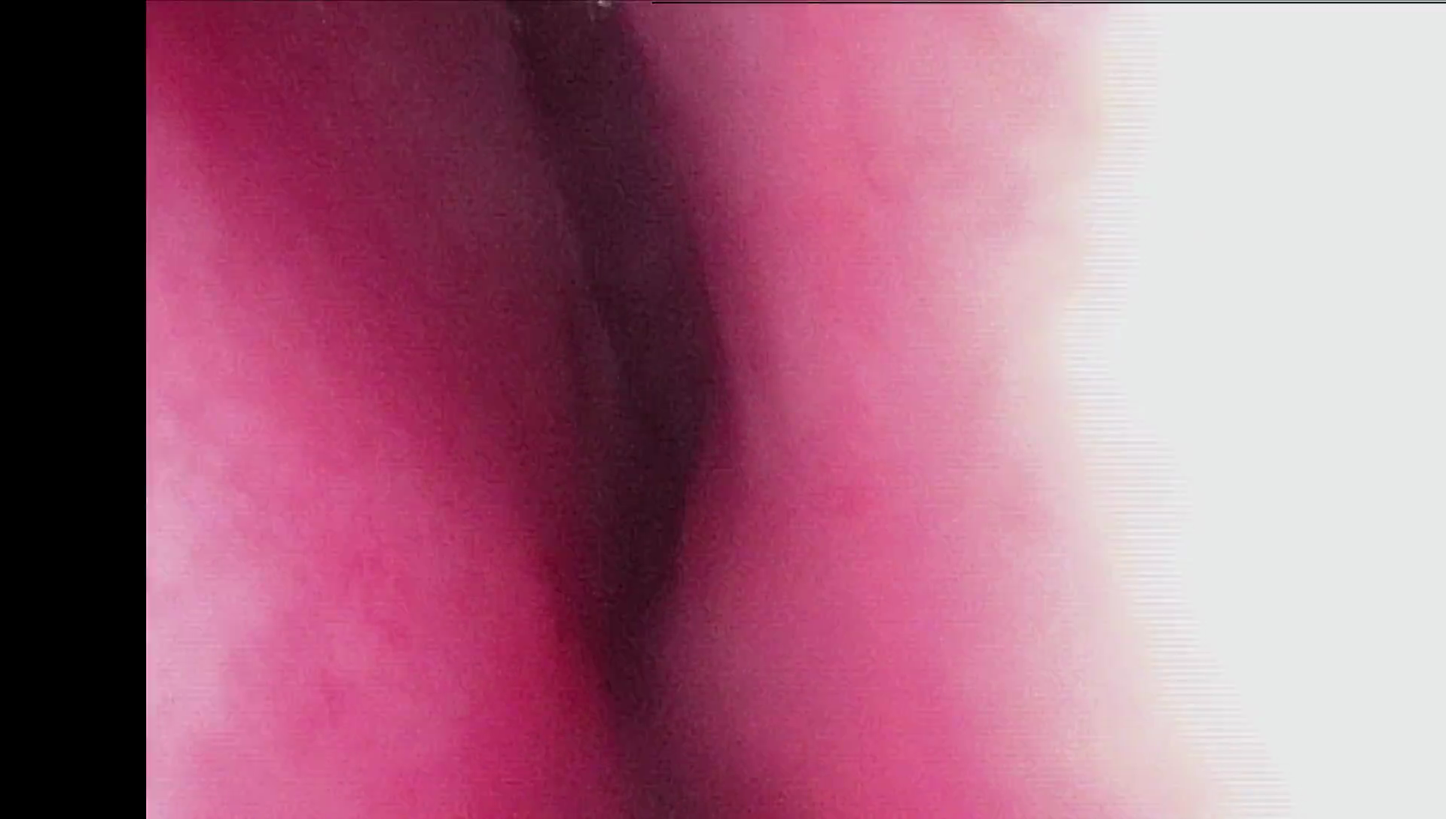close_wall: (834, 7, 1446, 819), (149, 211, 374, 817)
next: (489, 282, 783, 706), (512, 72, 748, 369)
